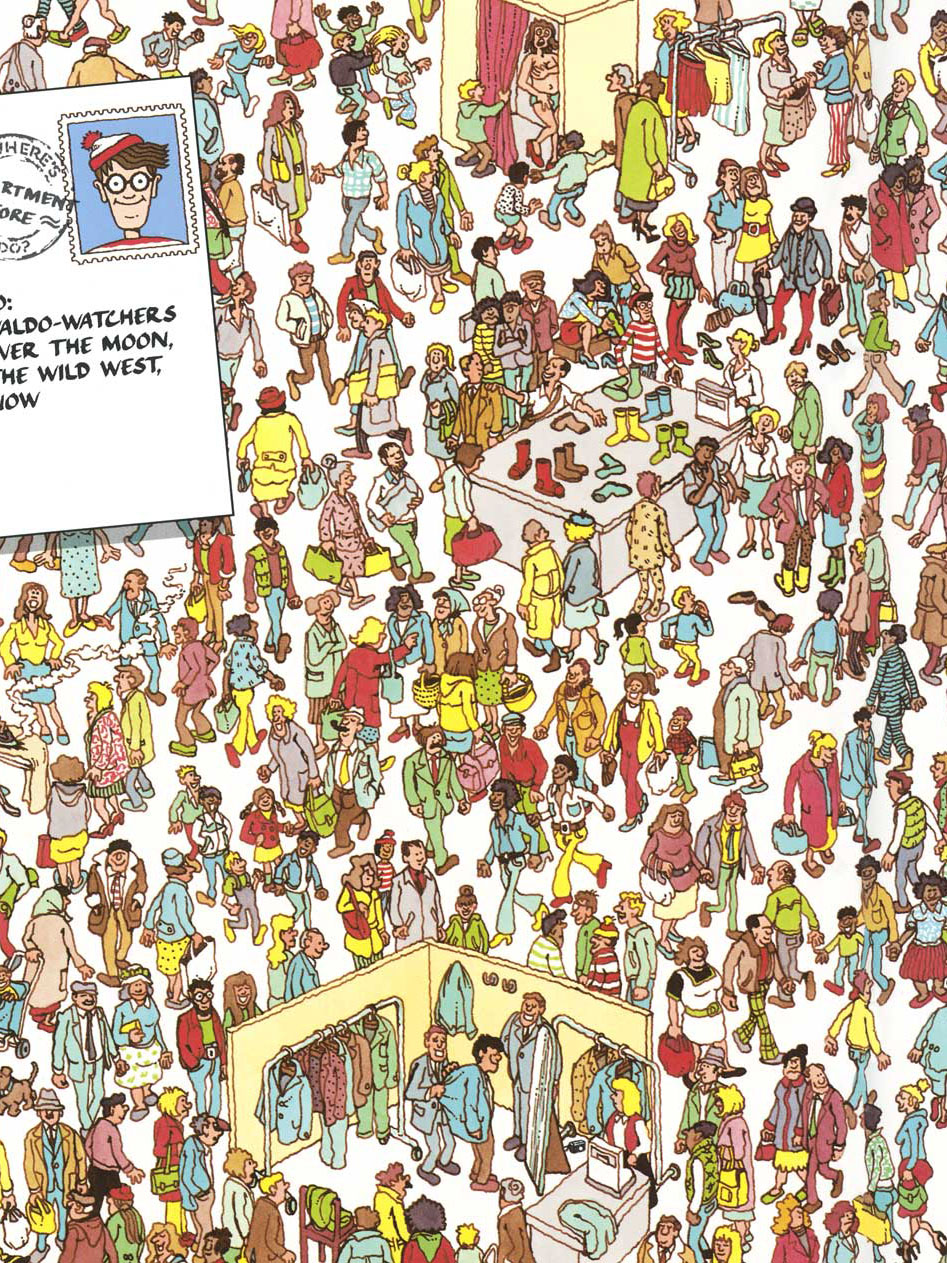waldo: (84, 130, 167, 230), (627, 291, 655, 321)
